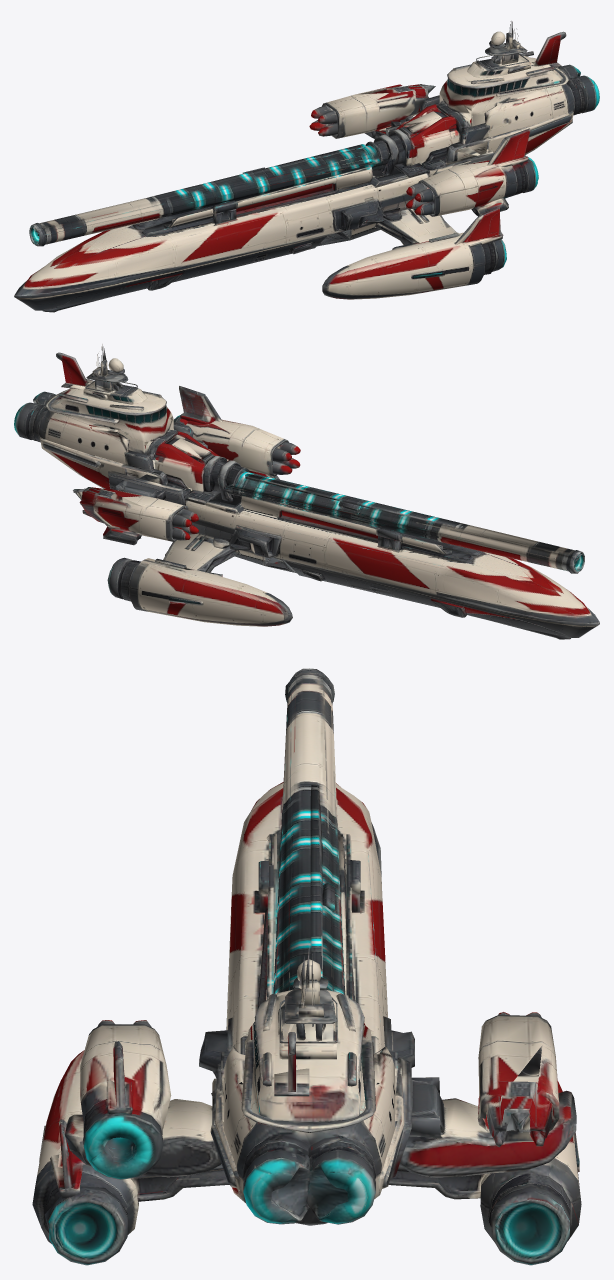
Rendered from lancer.fbx.
The picture shows the model from 3 angles, top to bottom: view 1: azimuth 30°, elevation 25°; view 2: azimuth 150°, elevation 25°; view 3: azimuth 270°, elevation 25°; orthographic projection. The views are drawn at different scales.
Visible parts, largest first — view 1: Mesh_0; view 2: Mesh_0; view 3: Mesh_0.
Boxes of the visible parts, <box> form: Mesh_0: <box>14,21,599,312</box>; Mesh_0: <box>14,344,599,639</box>; Mesh_0: <box>32,668,581,1265</box>.
Size of the model in its own units: 95.56 by 32.37 by 39.79.
Materials: 1 (1 with a texture image).
